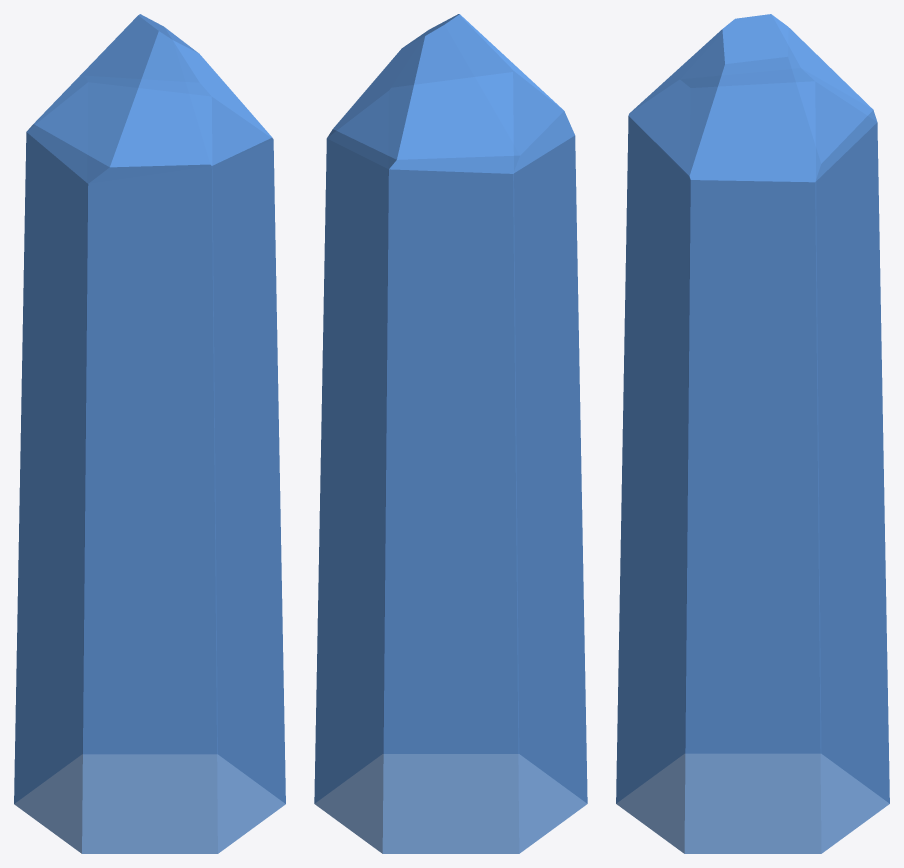
Rendered from Crystal_m_02.fbx.
3 renders of one model, left to right at view 1: azimuth 30°, elevation 25°; view 2: azimuth 150°, elevation 25°; view 3: azimuth 270°, elevation 25°, orthographic.
Visible parts, largest first — view 1: Crystal_m_02; view 2: Crystal_m_02; view 3: Crystal_m_02.
Part boxes in pixels (x1,y1,x2,y2): Crystal_m_02: (14, 14, 285, 853); Crystal_m_02: (314, 14, 587, 853); Crystal_m_02: (616, 14, 889, 853).
Bounding box in the file's own units: 42.54 × 156 × 49.13.
